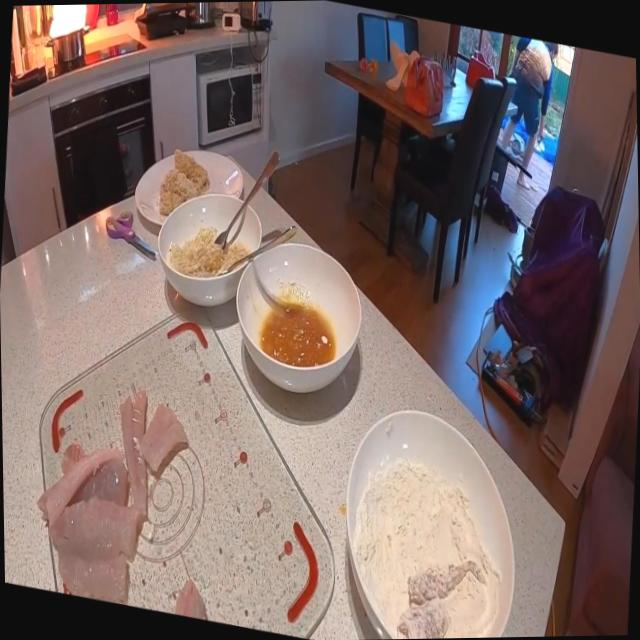fire: (30, 3, 119, 108)
